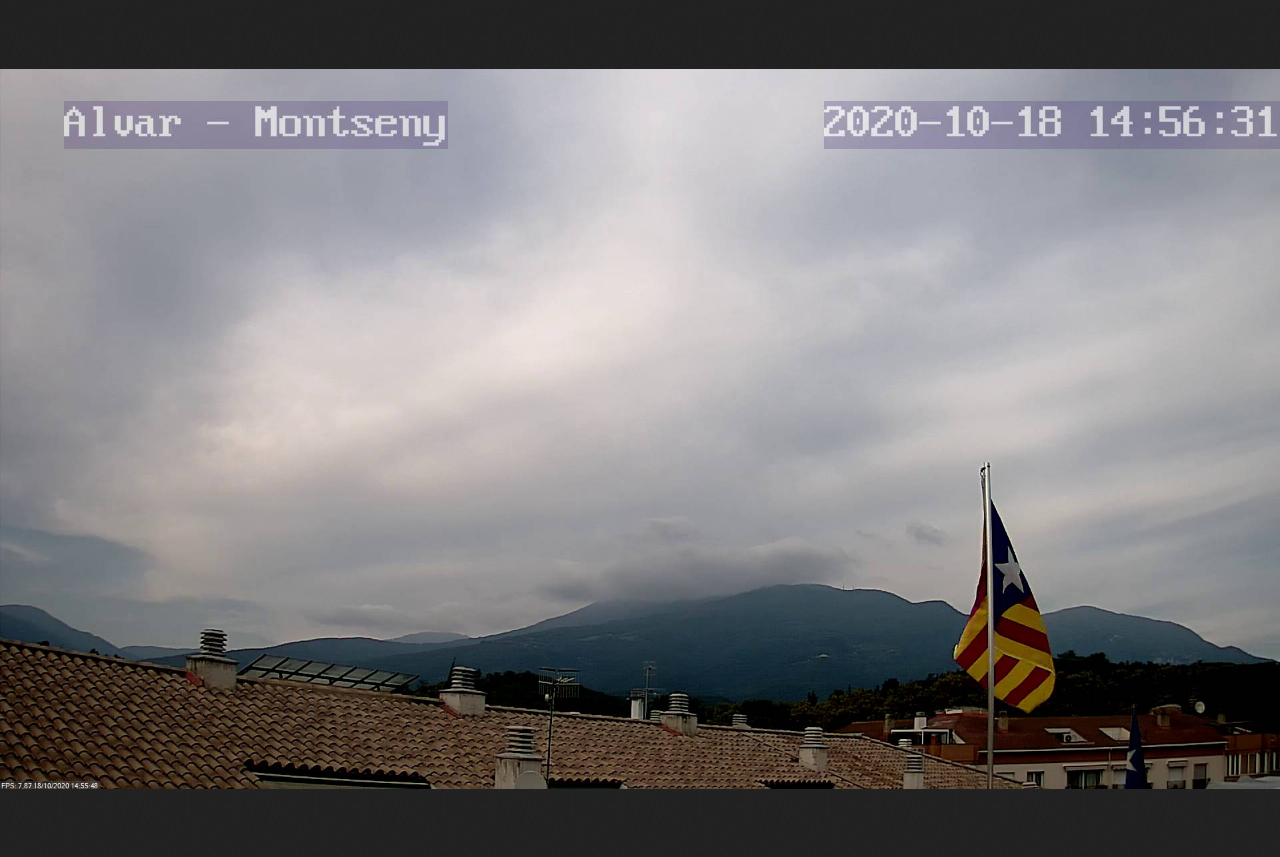no: (950, 465, 1054, 713)
